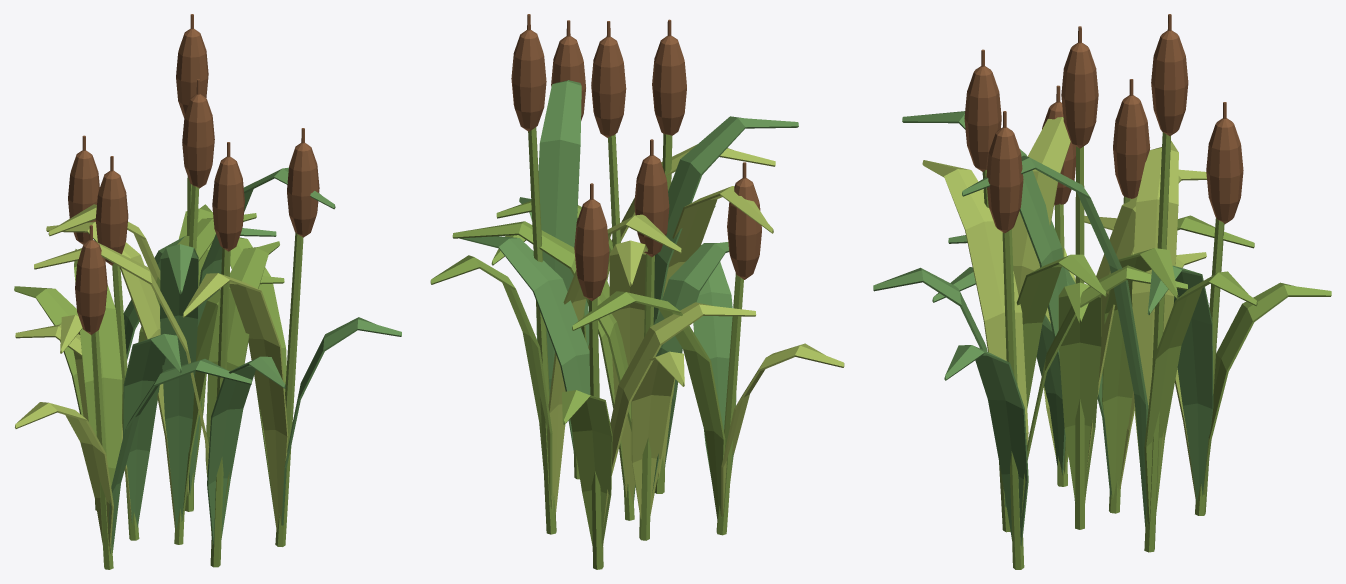
The model's file is lake_reeds.glb.
3 views of the same model, side by side, from view 1: azimuth 30°, elevation 25°; view 2: azimuth 150°, elevation 25°; view 3: azimuth 270°, elevation 25° (orthographic). The views are drawn at different scales.
Visible parts, largest first — view 1: lake_reeds; view 2: lake_reeds; view 3: lake_reeds.
Part boxes in pixels (left/top/right/bottom): lake_reeds: left=14, top=14, right=401, bottom=569; lake_reeds: left=430, top=14, right=844, bottom=569; lake_reeds: left=873, top=14, right=1331, bottom=569.
Bounding box in the file's own units: 0.7857 × 1.06 × 0.8113.
